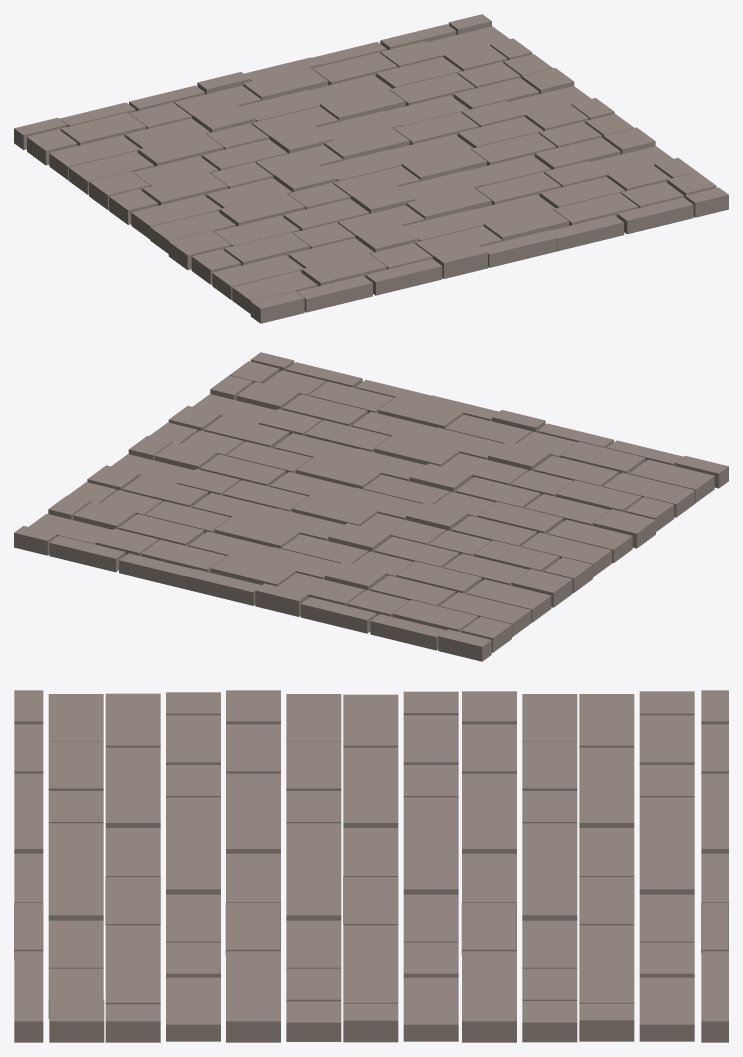
Rendered from floor_3.glb.
The picture shows the model from 3 angles, top to bottom: view 1: azimuth 30°, elevation 25°; view 2: azimuth 150°, elevation 25°; view 3: azimuth 270°, elevation 25°; orthographic projection. The views are drawn at different scales.
Parts seen in each view (by area): view 1: floor_3; view 2: floor_3; view 3: floor_3.
Boxes of the visible parts, left/top/right/bottom form: floor_3: left=14, top=14, right=728, bottom=323; floor_3: left=14, top=352, right=728, bottom=661; floor_3: left=14, top=690, right=728, bottom=1042.
Size of the model in its own units: 1.53 by 0.0501 by 1.4.
Materials: 1 (1 with a texture image).
